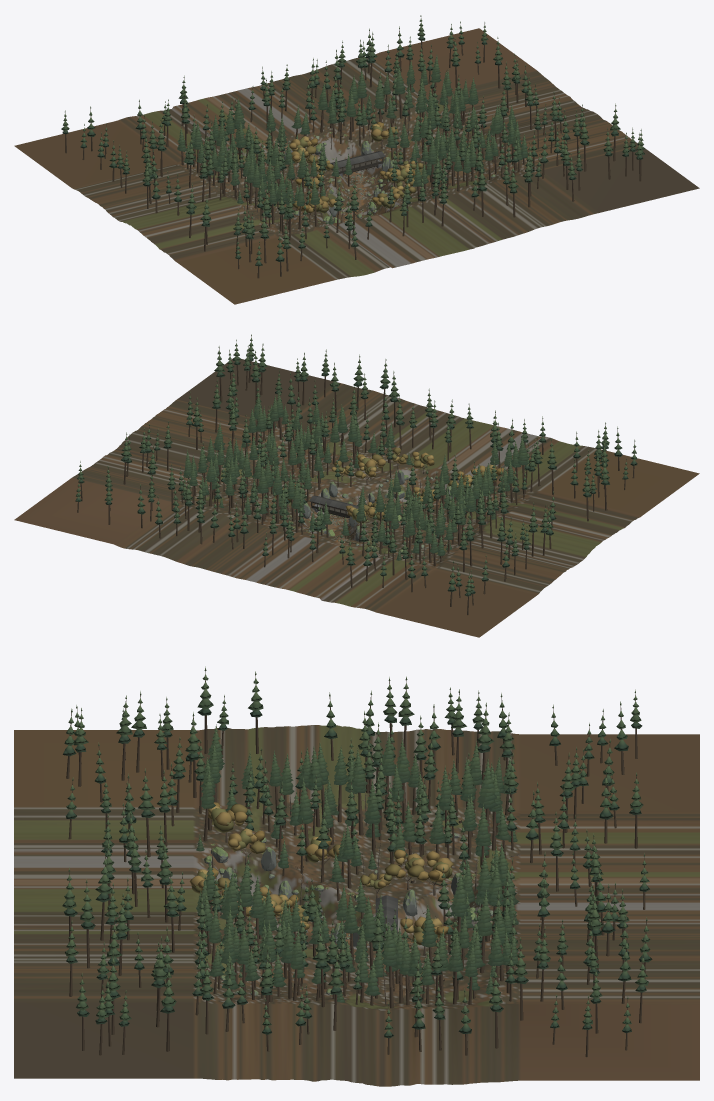
File: gorge.glb
3 views of the same model, one above another, from view 1: azimuth 30°, elevation 25°; view 2: azimuth 150°, elevation 25°; view 3: azimuth 270°, elevation 25° (orthographic). The views are drawn at different scales.
Parts seen in each view (by area): view 1: ground, g_bridge_cov; view 2: ground, g_bridge_cov; view 3: ground, g_autumn_a (×5), g_pine_d.
Boxes of the visible parts, <box> form: ground: <box>14,28,699,304</box>; g_bridge_cov: <box>330,151,385,176</box>; ground: <box>14,358,699,637</box>; g_bridge_cov: <box>309,495,359,519</box>; ground: <box>14,725,699,1086</box>; g_autumn_a (×5): <box>208,802,453,955</box>; g_pine_d: <box>477,758,497,857</box>.
Size of the model in its own units: 280 by 47.54 by 230.
